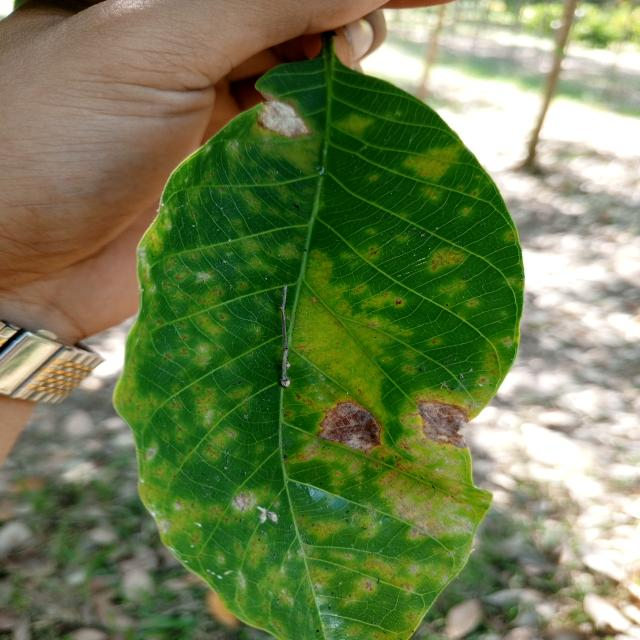Leaf-Blight: (317, 400, 383, 453), (256, 90, 312, 139), (417, 400, 468, 448)
